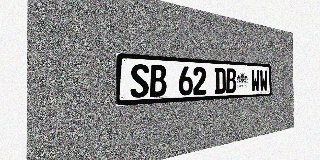2: (193, 67, 206, 95)
6: (179, 66, 193, 96)
B: (150, 65, 166, 97), (226, 68, 236, 93)
D: (214, 68, 226, 94)
S: (130, 64, 149, 98)
W: (251, 69, 260, 92), (260, 70, 268, 92)
